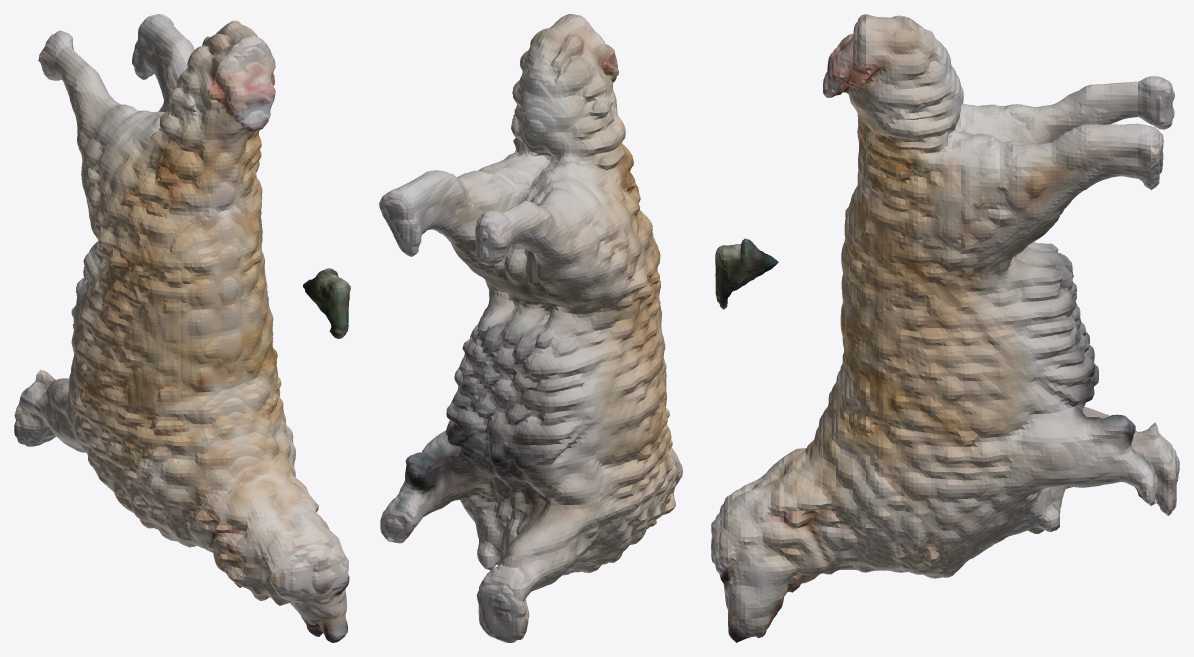
The picture shows the model from 3 angles, left to right: view 1: azimuth 30°, elevation 25°; view 2: azimuth 150°, elevation 25°; view 3: azimuth 270°, elevation 25°; orthographic projection. The views are drawn at different scales.
Visible parts, largest first — view 1: world; view 2: world; view 3: world.
Boxes of the visible parts, x1,y1,x2,y2 form: world: (14, 14, 350, 642); world: (379, 14, 682, 642); world: (711, 14, 1179, 642).
Size of the model in its own units: 0.3603 by 1.07 by 0.7409.
